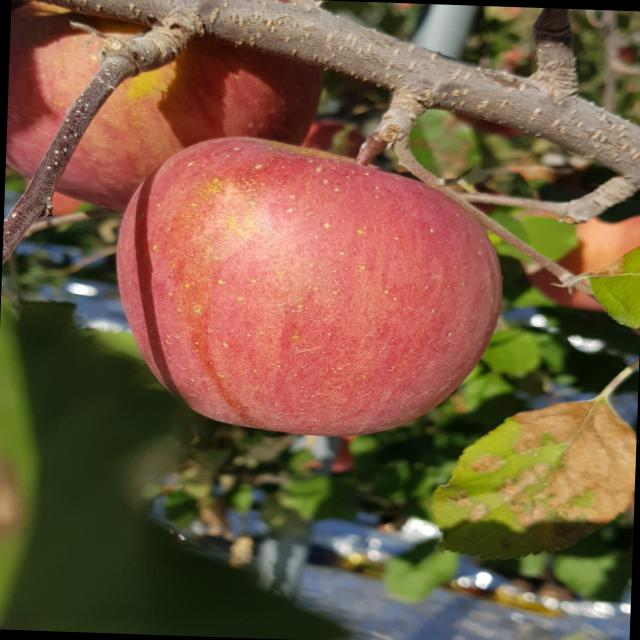fresh: (95, 119, 522, 447)
